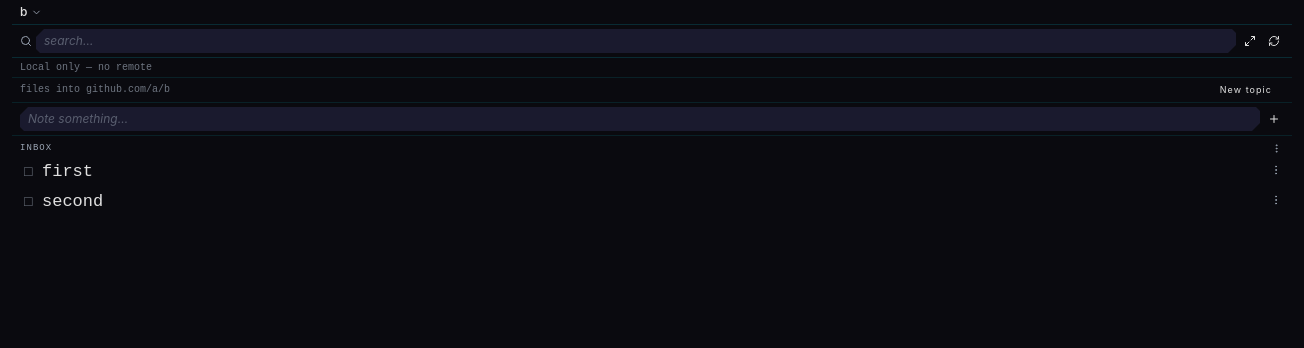
Test case: managing what is in the list › shows what was left behind, not only what came in
The image size is (1304, 348).
Expected: the text "first" is shown, [42, 162, 93, 181]
What coordinates should you click on to do the following:
click the button named "Project:"
I would click on:
 (31, 12)
Its box is [20, 4, 42, 20].
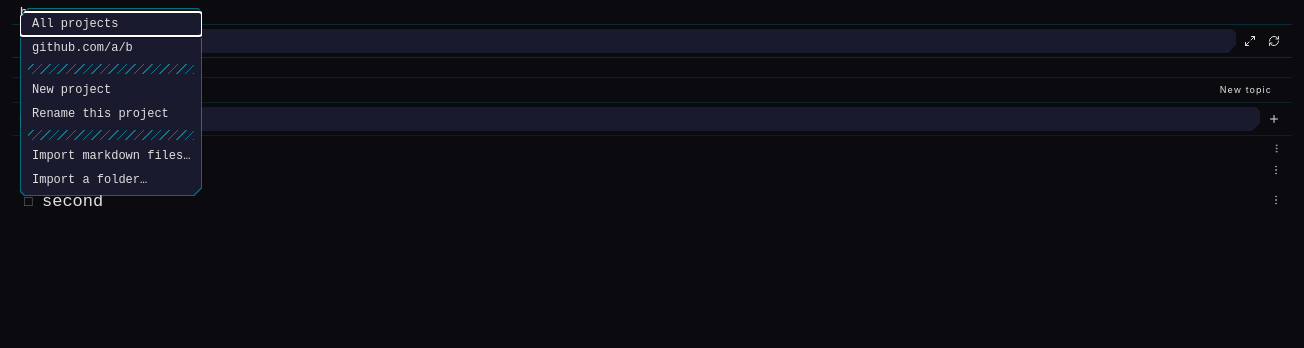
What coordinates should you click on to do the following:
click the menu item "Import markdown files…"
I would click on:
 (111, 156)
Its box is [20, 144, 202, 168].
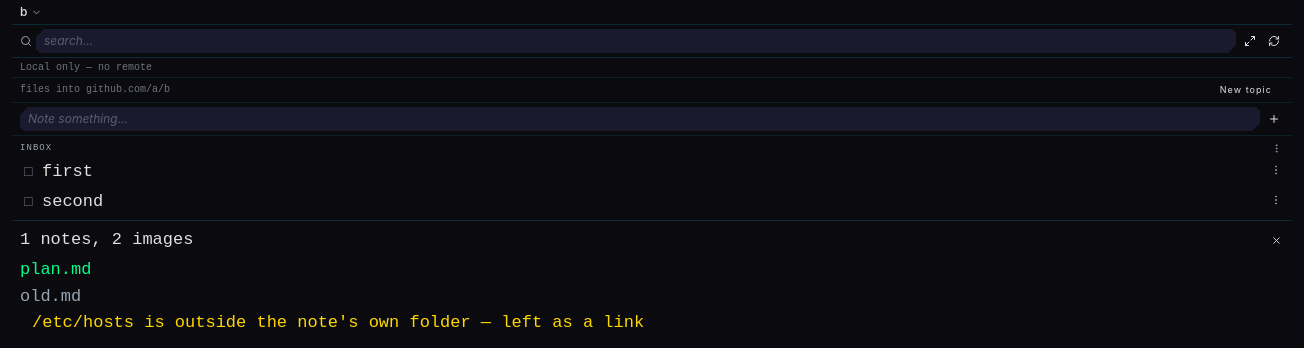
Expected: the element named "What was imported" shows "1 notes, 2 images", [20, 230, 193, 249]
Expected: the element named "What was imported" shows "outside the note's own folder", [32, 313, 644, 332]
